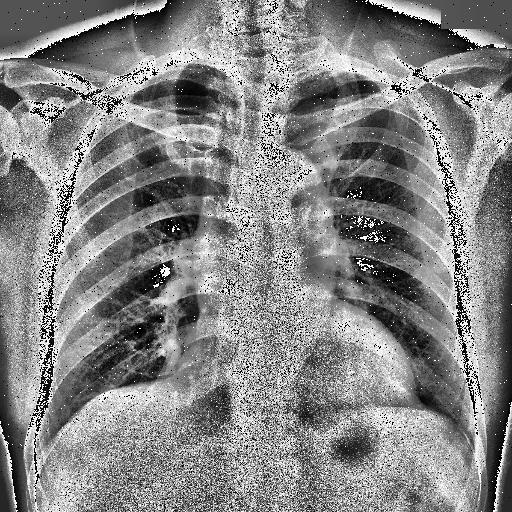0- Aortic enlargement: (258, 145, 336, 253), (254, 145, 336, 245), (258, 144, 336, 228)
10- Pleural effusion: (466, 432, 484, 478)
11- Pleural thickening: (466, 432, 484, 478), (297, 68, 333, 84), (170, 61, 210, 69)
3- Cardiomegaly: (160, 328, 420, 418), (172, 334, 426, 412), (174, 330, 420, 408)
